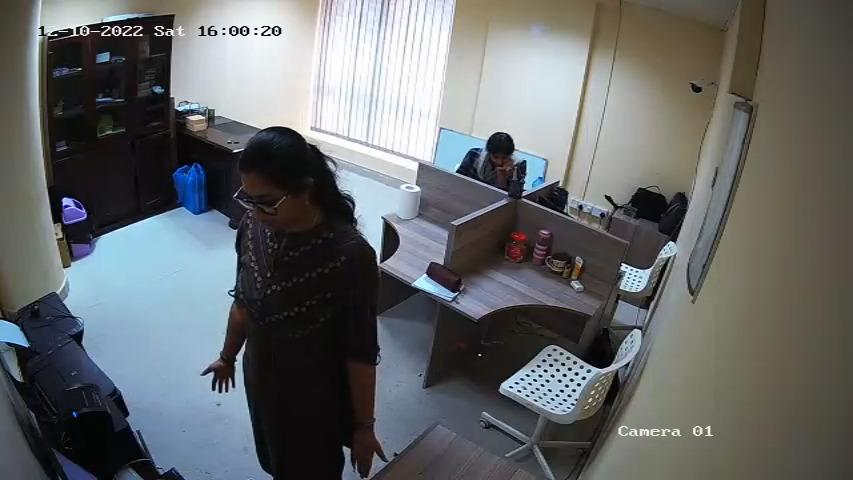no_gloves: (348, 433, 390, 479), (199, 358, 237, 395)
